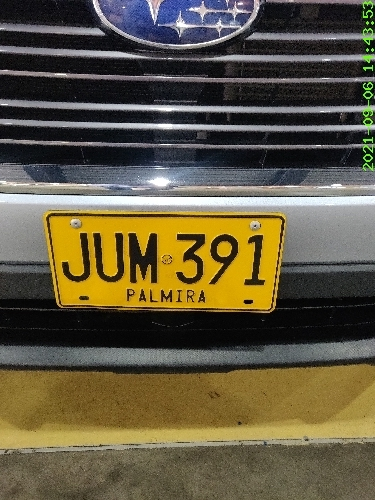number_plate: (45, 209, 285, 314)
